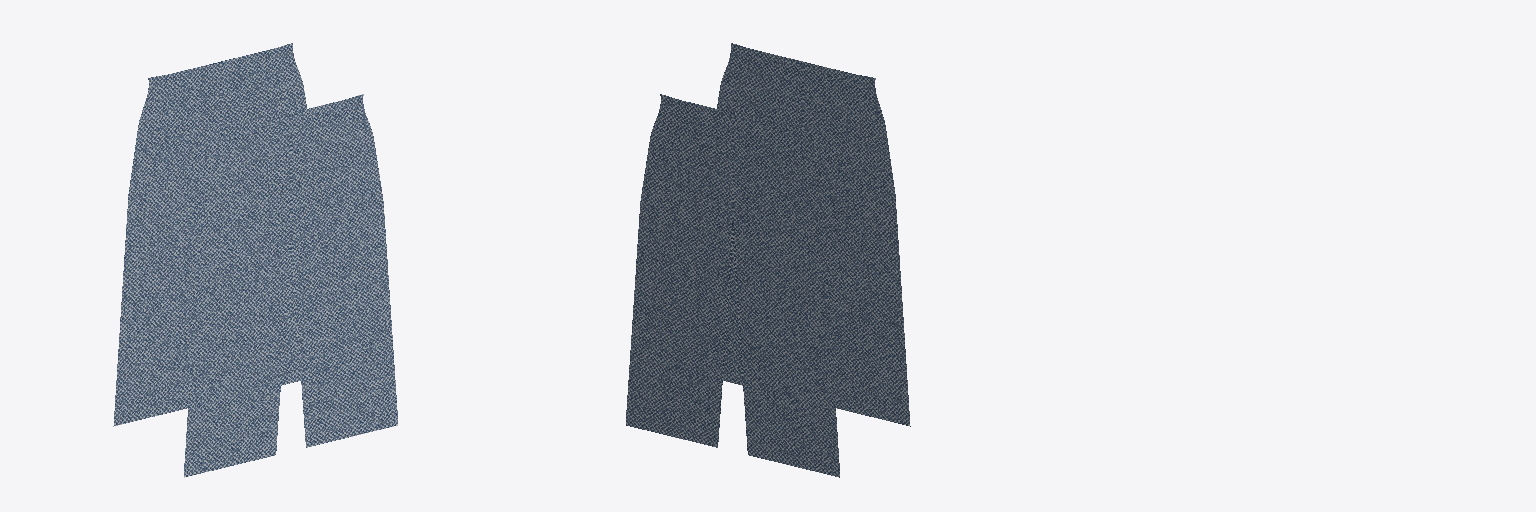
The picture shows the model from 3 angles: view 1: azimuth 30°, elevation 25°; view 2: azimuth 150°, elevation 25°; view 3: azimuth 270°, elevation 25°; orthographic projection.
Visible parts, largest first — view 1: Plane_Plane.001; view 2: Plane_Plane.001; view 3: none.
Boxes of the visible parts, x1=… form: Plane_Plane.001: x1=113, y1=43, x2=397, y2=477; Plane_Plane.001: x1=626, y1=43, x2=910, y2=477.
Size of the model in its own units: 6.89 by 10.41 by 3.89.
Materials: 1 (1 with a texture image).